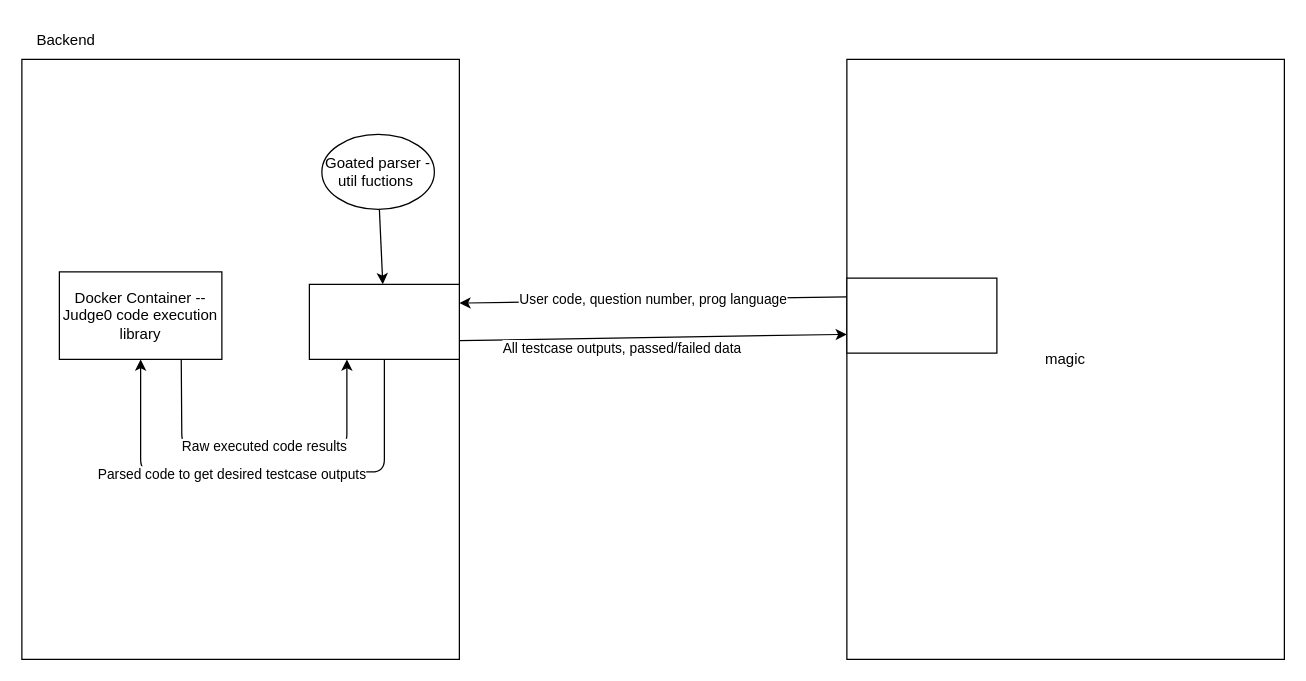
Some shapes in this 1306 by 681 pixel diagram are drawn without their labels. Here are the shapes that lost their labels. From the top down, the centre of each, then its label:
point 383,321: Backend flask app (app.py)
point 921,315: Frontend socket or something?
